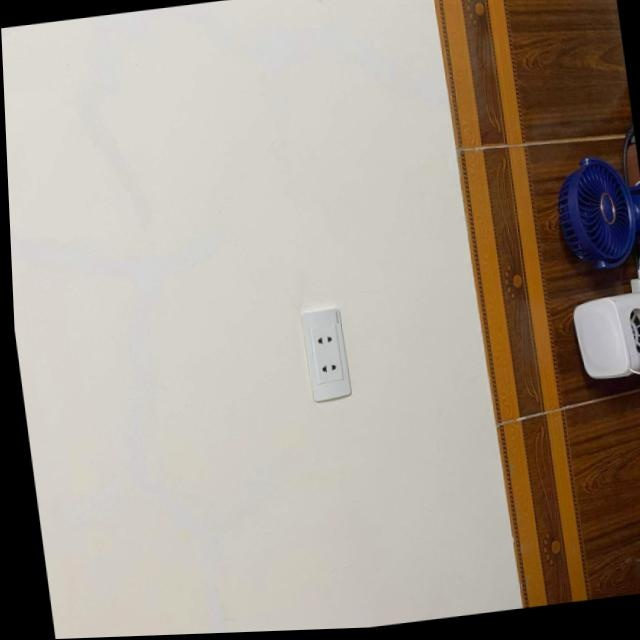outlet: (298, 306, 352, 402)
